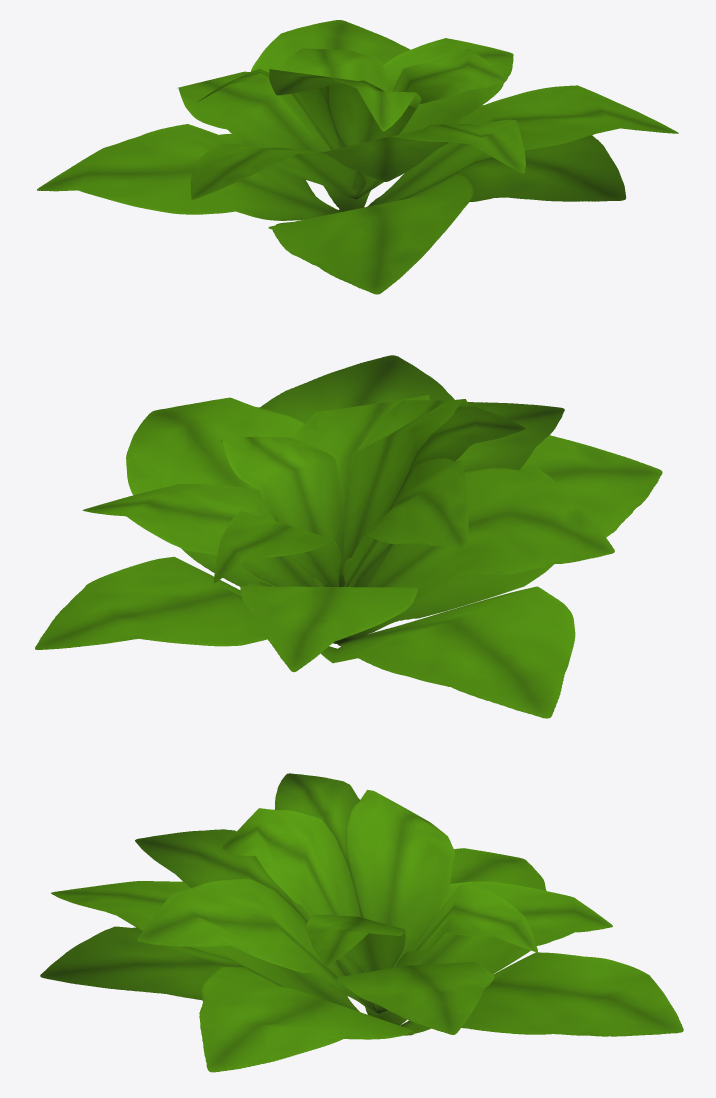
The model's file is Plant1.fbx.
3 renders of one model, top to bottom at view 1: azimuth 30°, elevation 25°; view 2: azimuth 150°, elevation 25°; view 3: azimuth 270°, elevation 25°, orthographic. The views are drawn at different scales.
Parts seen in each view (by area): view 1: polySurface3; view 2: polySurface3; view 3: polySurface3.
Boxes of the visible parts, x1,y1,x2,y2 form: polySurface3: (37, 20, 678, 294); polySurface3: (35, 355, 662, 718); polySurface3: (40, 773, 683, 1072).
Bounding box in the file's own units: 10.96 × 3.79 × 11.61.
